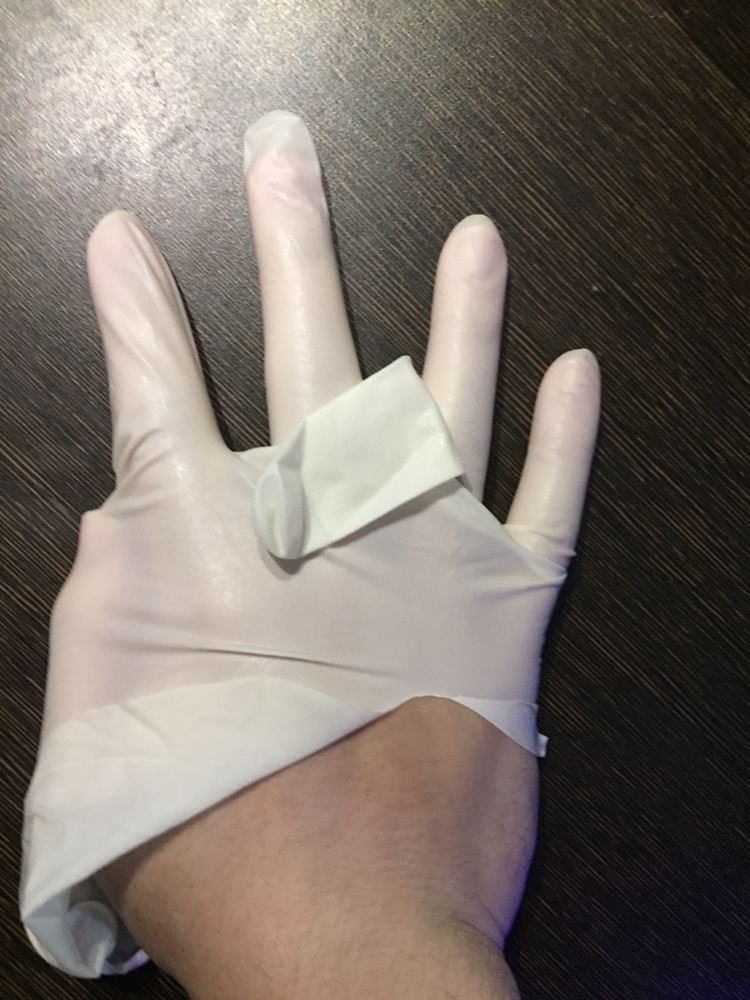defected: (32, 19, 600, 968)
